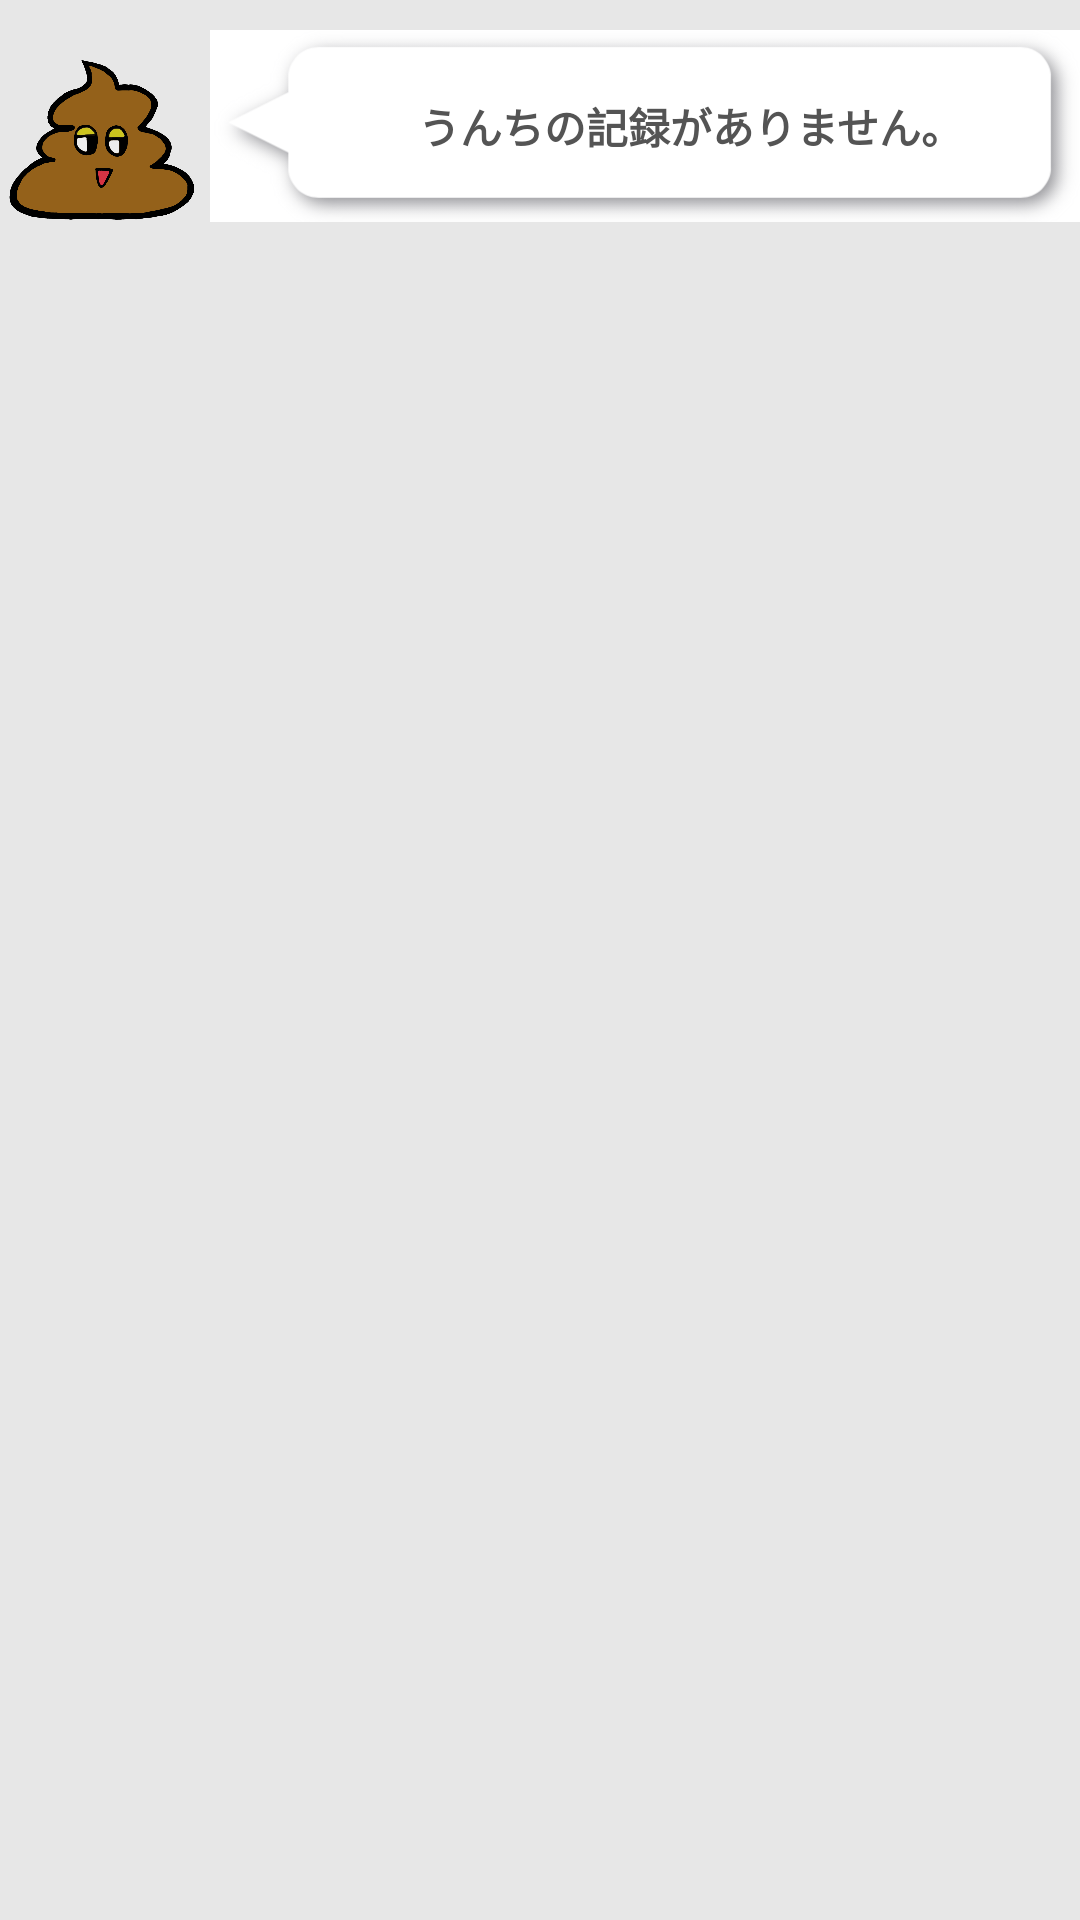

Icon bounding boxes for this 1080 x 1920 phone screenshot, format (x1, y1, x2, y2):
poop: (9, 60, 194, 220)
